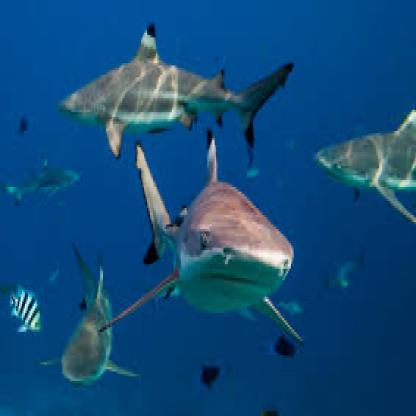Shark -Selachimorpha-: (95, 127, 304, 345), (58, 22, 292, 162), (35, 237, 141, 380), (313, 104, 416, 221)
